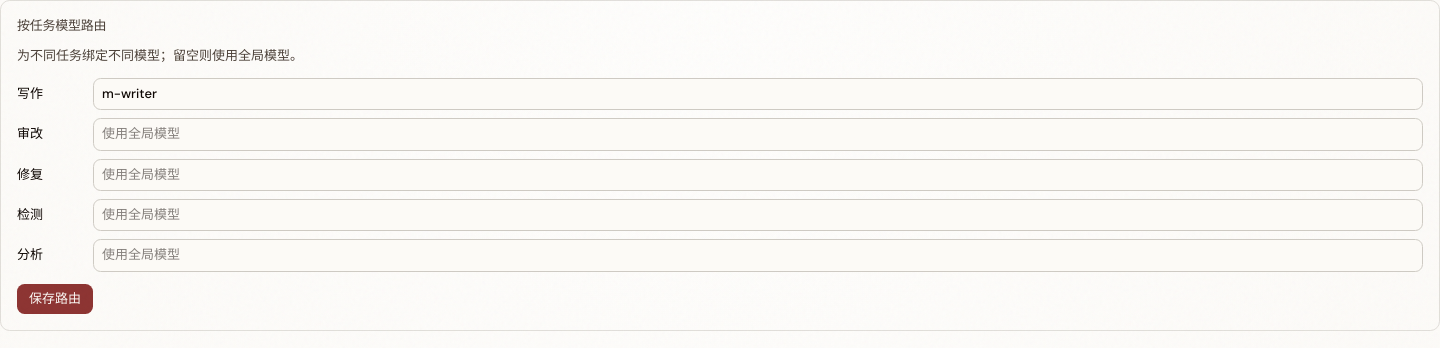
Test: TaskRoutingPanel 交互（479 号） › 保存失败时错误信息经 notice 透出
Expected: the 1st field is shown, [93,78,1423,110]
Click the button "保存路由".
click(55, 299)  # box [17,284,93,314]
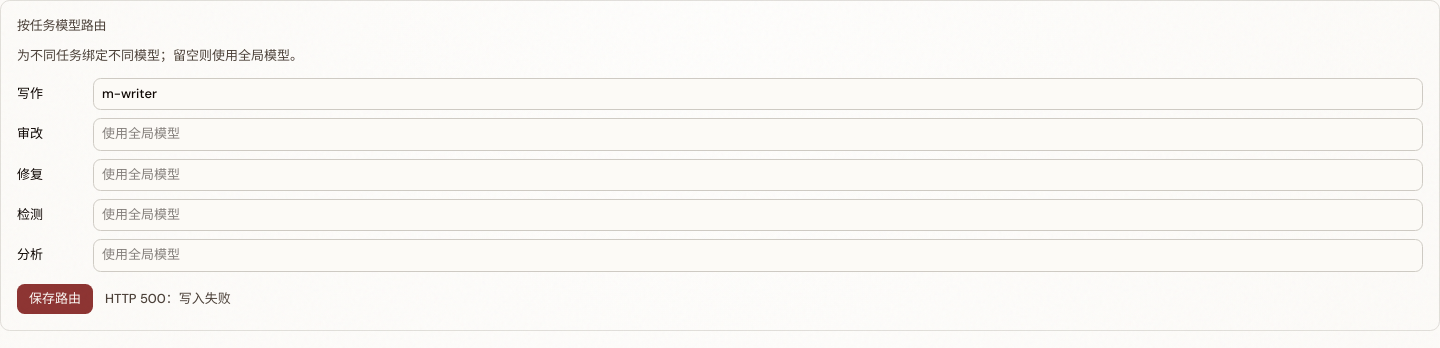
Result: the text "HTTP 500：写入失败" is shown at [105,290,231,308]
